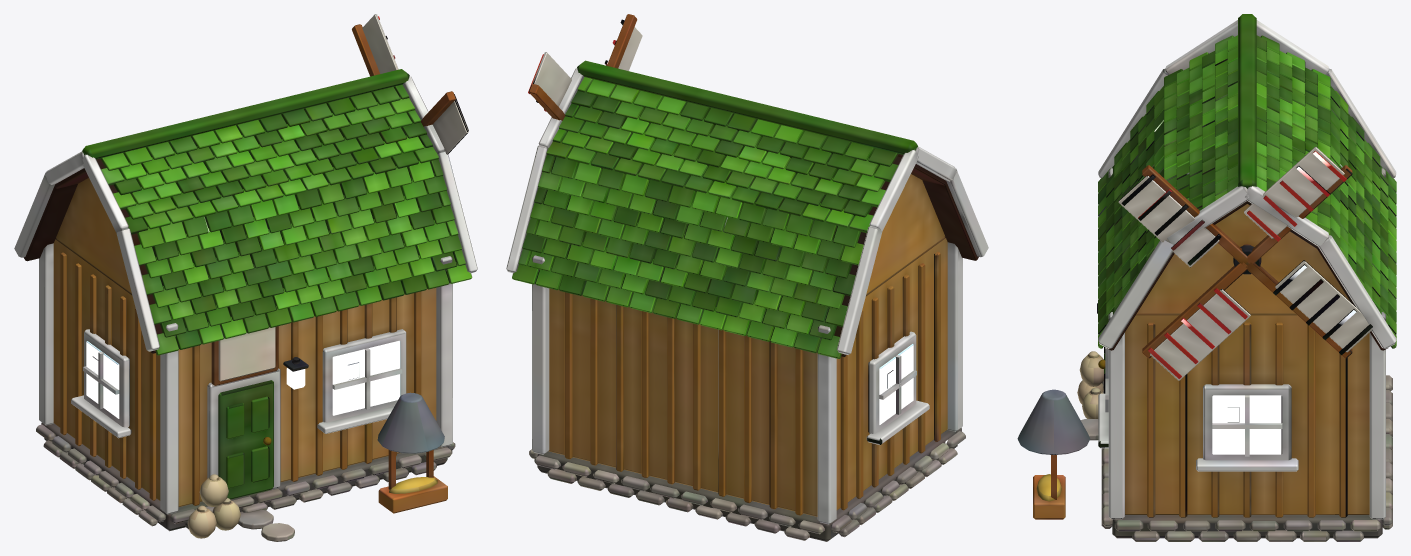
File: feed_mill.glb
The picture shows the model from 3 angles, left to right: view 1: azimuth 30°, elevation 25°; view 2: azimuth 150°, elevation 25°; view 3: azimuth 270°, elevation 25°; orthographic projection. The views are drawn at different scales.
Visible parts, largest first — view 1: feed_mill, spinX_sails; view 2: feed_mill, spinX_sails; view 3: feed_mill, spinX_sails.
Part boxes in pixels (box(x1,y1,x2,y2)): feed_mill: box(14, 69, 477, 541); spinX_sails: box(352, 14, 468, 154); feed_mill: box(506, 60, 988, 541); spinX_sails: box(528, 14, 642, 120); feed_mill: box(1017, 14, 1396, 541); spinX_sails: box(1118, 147, 1372, 380).
Size of the model in its own units: 1.75 by 1.93 by 1.63.
Materials: 1 (1 with a texture image).
